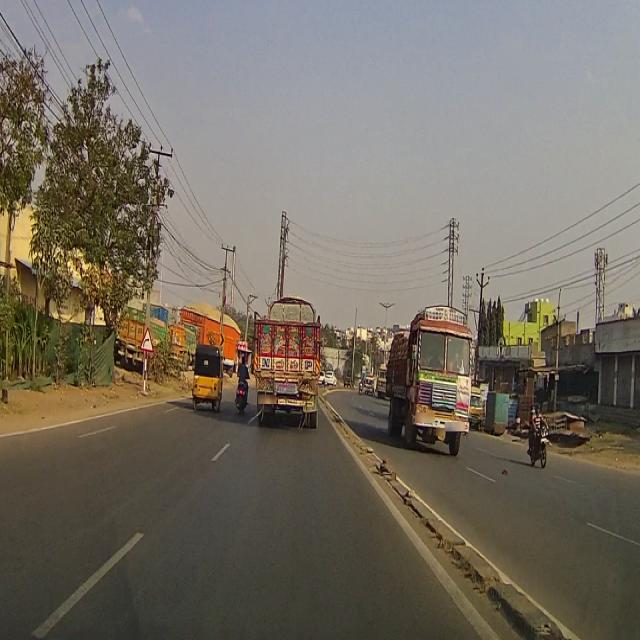right-hand-curve: (138, 323, 154, 353)
